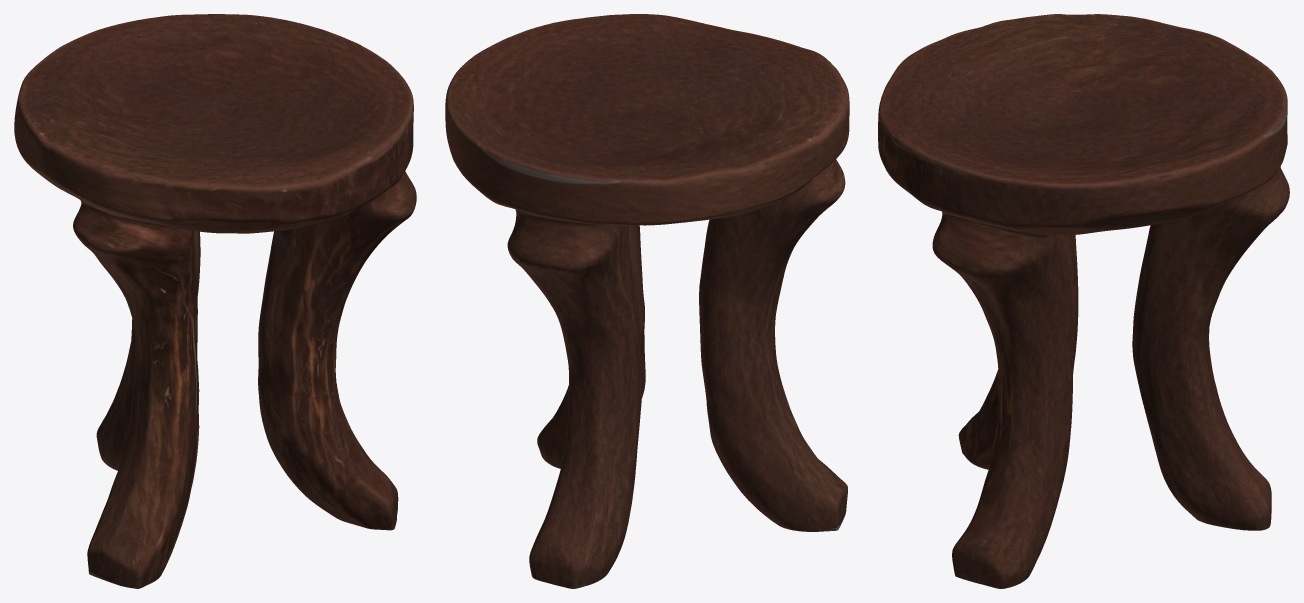
The model's file is wooden_stool_optimized.glb.
3 renders of one model, left to right at view 1: azimuth 30°, elevation 25°; view 2: azimuth 150°, elevation 25°; view 3: azimuth 270°, elevation 25°, orthographic.
Parts seen in each view (by area): view 1: Meshy_AI_Rustic_Three_Legged_W_0919180511_texture; view 2: Meshy_AI_Rustic_Three_Legged_W_0919180511_texture; view 3: Meshy_AI_Rustic_Three_Legged_W_0919180511_texture.
Boxes of the visible parts, x1,y1,x2,y2 form: Meshy_AI_Rustic_Three_Legged_W_0919180511_texture: (14, 14, 416, 588); Meshy_AI_Rustic_Three_Legged_W_0919180511_texture: (445, 14, 849, 588); Meshy_AI_Rustic_Three_Legged_W_0919180511_texture: (878, 14, 1289, 588).
Bounding box in the file's own units: 1.65 × 1.9 × 1.68.
Materials: 1 (1 with a texture image).
